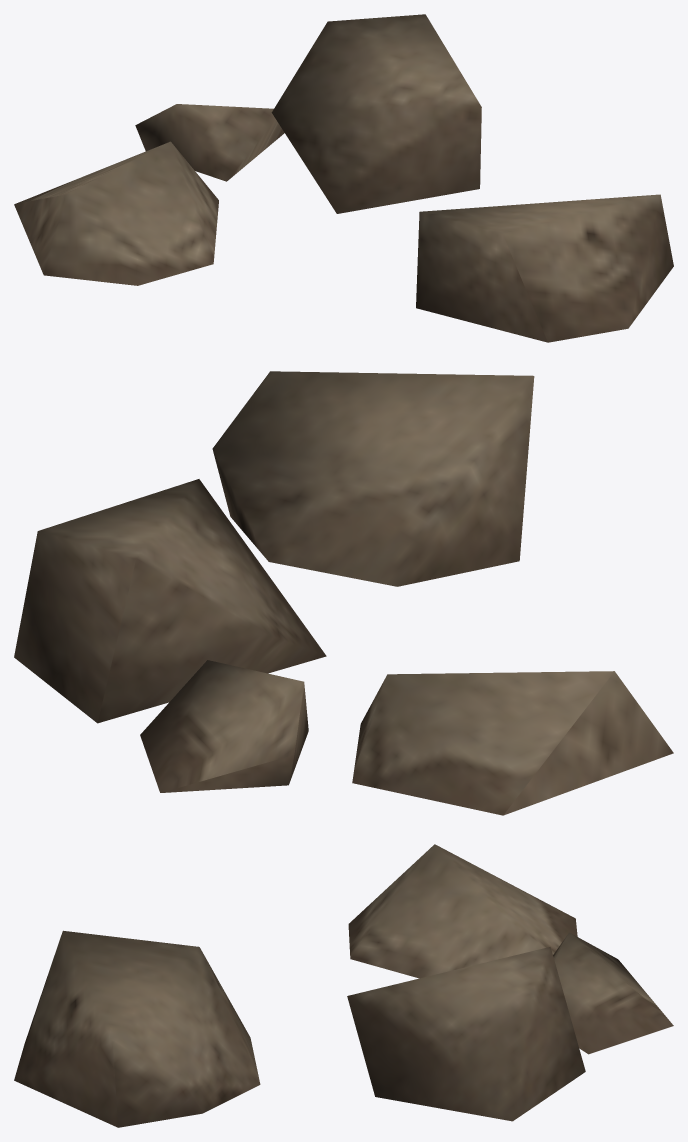
File: shizi01.FBX
3 views of the same model, one above another, from view 1: azimuth 30°, elevation 25°; view 2: azimuth 150°, elevation 25°; view 3: azimuth 270°, elevation 25° (orthographic). The views are drawn at different scales.
Visible parts, largest first — view 1: polySurface41; view 2: polySurface41; view 3: polySurface41.
Part boxes in pixels (x1=…): polySurface41: x1=14, y1=14, x2=673, y2=342; polySurface41: x1=14, y1=371, x2=673, y2=815; polySurface41: x1=14, y1=844, x2=673, y2=1127.
Size of the model in its own units: 11.87 by 2.8 by 14.06.
